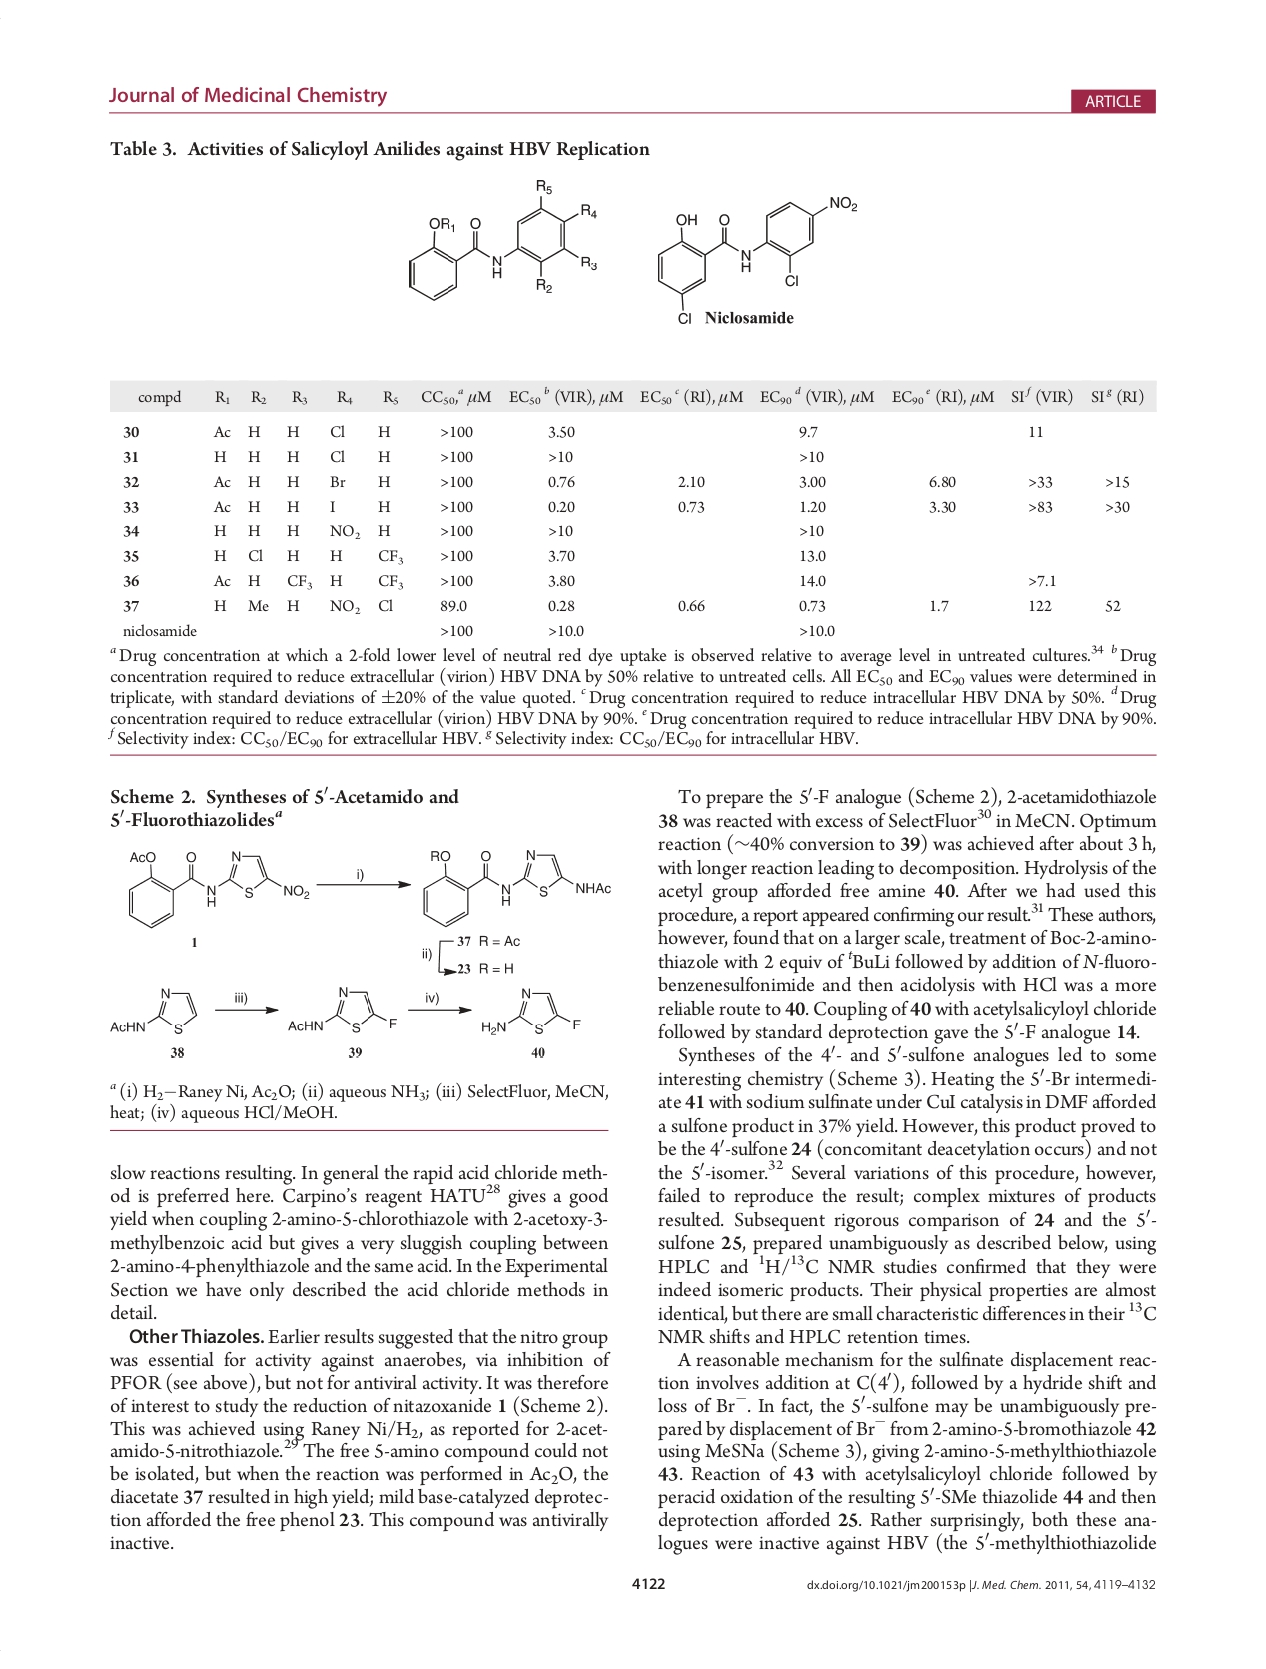exist_molecular: (656, 193, 856, 330), (402, 177, 602, 302), (116, 842, 313, 931), (420, 843, 613, 928), (287, 983, 396, 1036), (105, 981, 203, 1040), (477, 989, 582, 1039)
